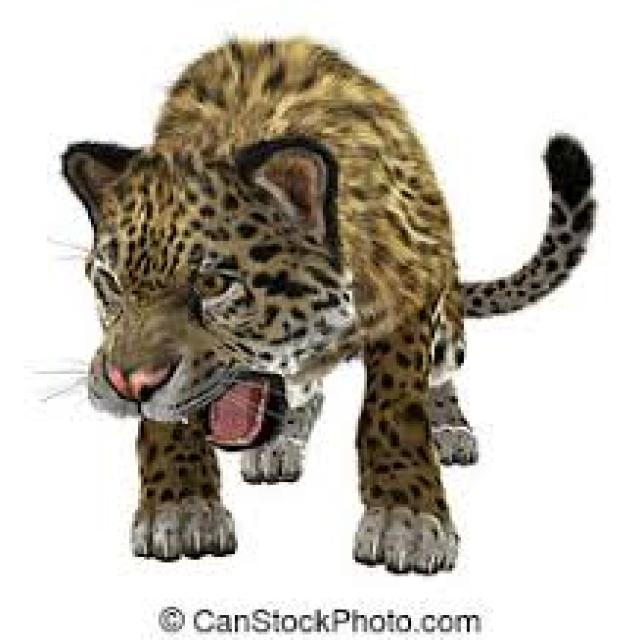Jaguar: (70, 28, 564, 579)
